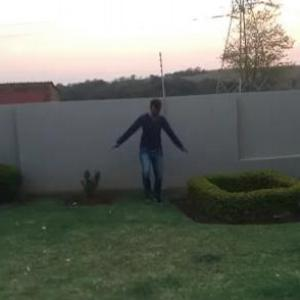land: (110, 100, 190, 211)
